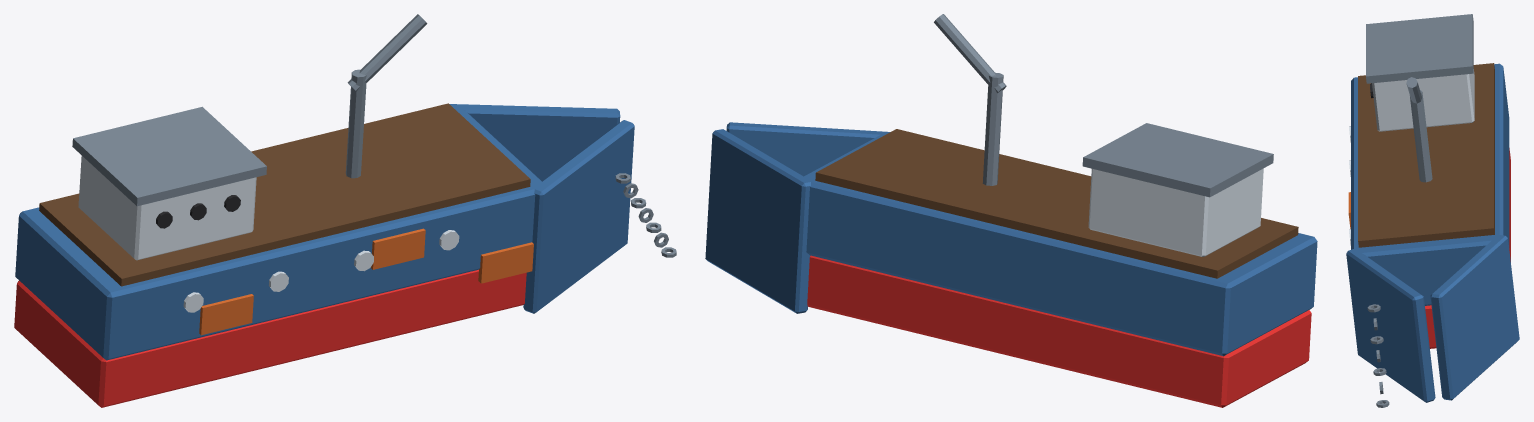
File: prop_shipwreck.fbx
The picture shows the model from 3 angles, left to right: view 1: azimuth 30°, elevation 25°; view 2: azimuth 150°, elevation 25°; view 3: azimuth 270°, elevation 25°; orthographic projection. The views are drawn at different scales.
Parts seen in each view (by area): view 1: prop_shipwreck; view 2: prop_shipwreck; view 3: prop_shipwreck.
Boxes of the visible parts, x1,y1,x2,y2 form: prop_shipwreck: [14, 14, 676, 407]; prop_shipwreck: [705, 14, 1317, 407]; prop_shipwreck: [1346, 14, 1519, 407].
Bounding box in the file's own units: 34.4 × 16.63 × 10.66.
